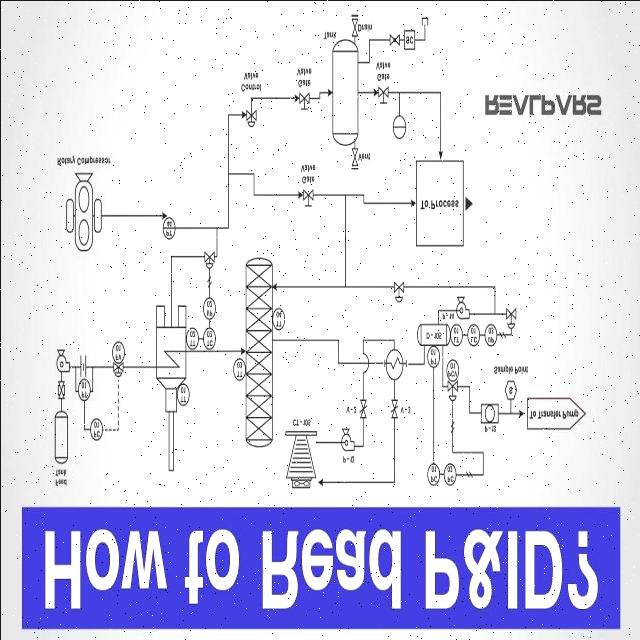Butterfly Valve: (382, 395, 397, 423), (359, 396, 367, 422)
Centrifugal Pump: (336, 422, 356, 456), (452, 291, 470, 322)
Gate Valve: (384, 16, 404, 52)
Hand Operated Gate Valve: (292, 184, 318, 214), (376, 80, 392, 112), (298, 90, 308, 130)
Orifice: (78, 352, 98, 380)
Plug Valve: (55, 375, 69, 401)
Pneumatic-Diaphragm Gate Valve: (390, 256, 411, 319), (443, 377, 463, 408), (111, 360, 127, 380), (506, 304, 516, 332), (246, 106, 256, 130)
